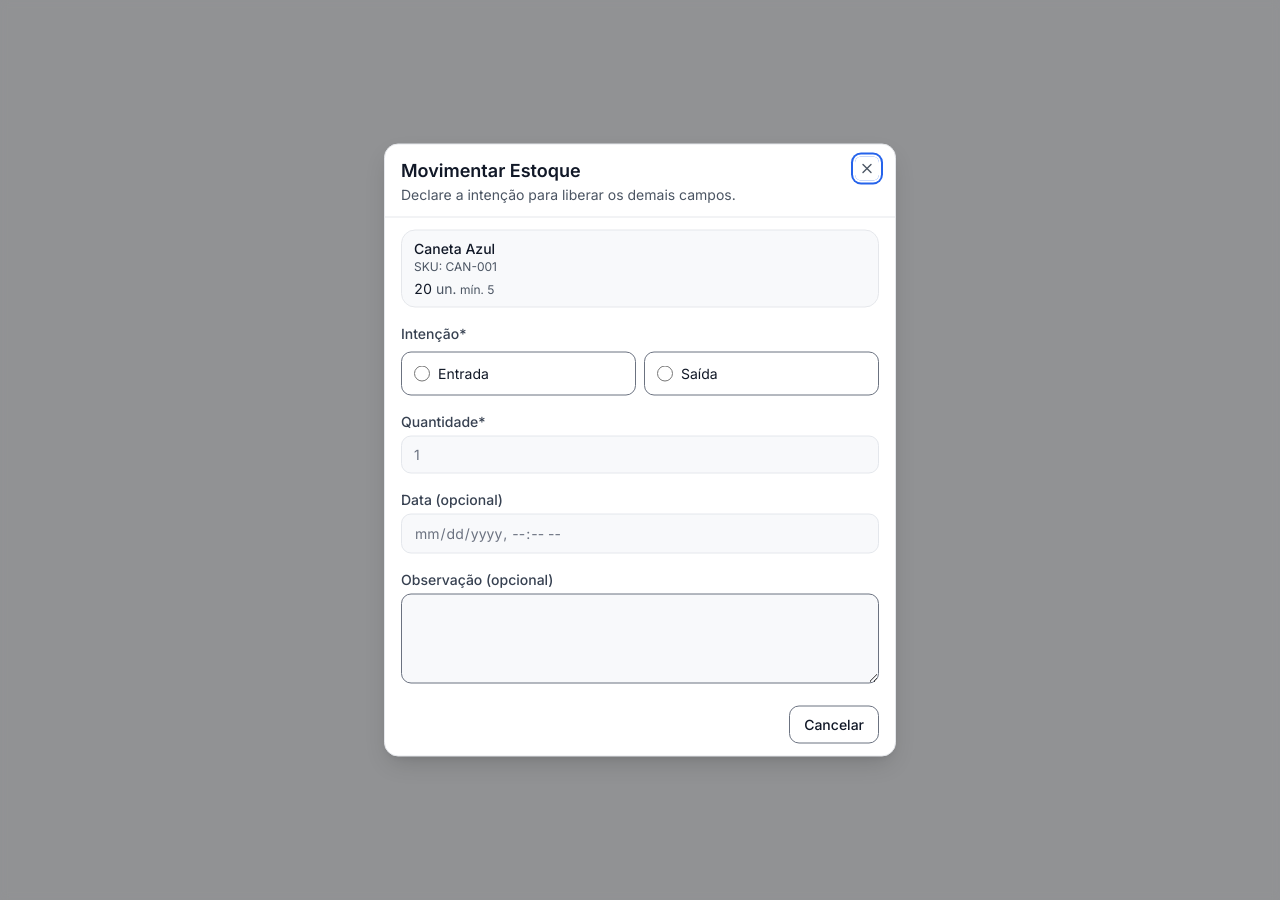
MovementFormModal — declaração de intenção (D2/P-4) › (c) escolhida a intenção, o preview mostra o saldo resultante — saída
Click the radio button labelled "Saída". click: (665,374)
box: [657,366,673,382]
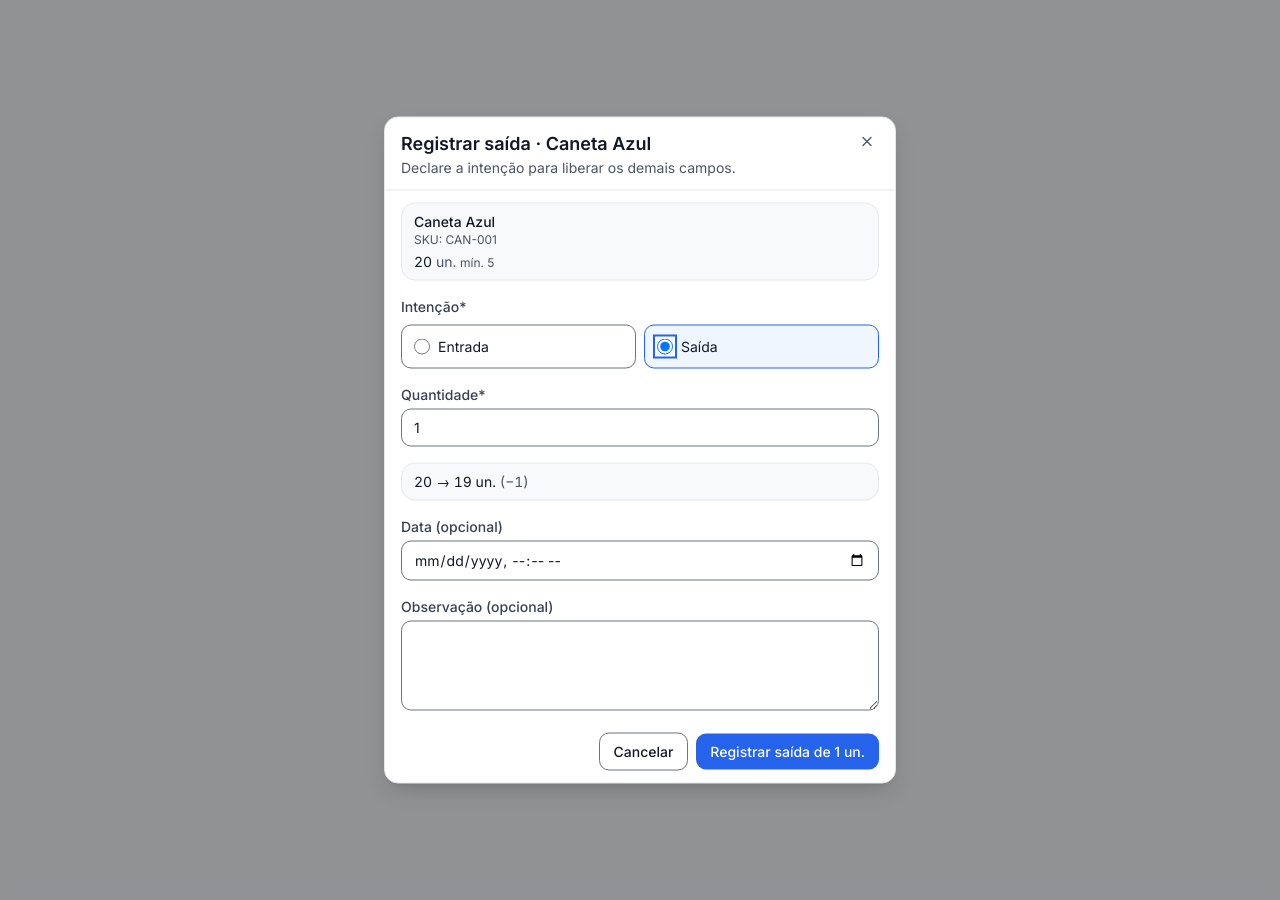
Clear the number field labelled "Quantidade*". click: (640,428)
box: [401,408,879,446]
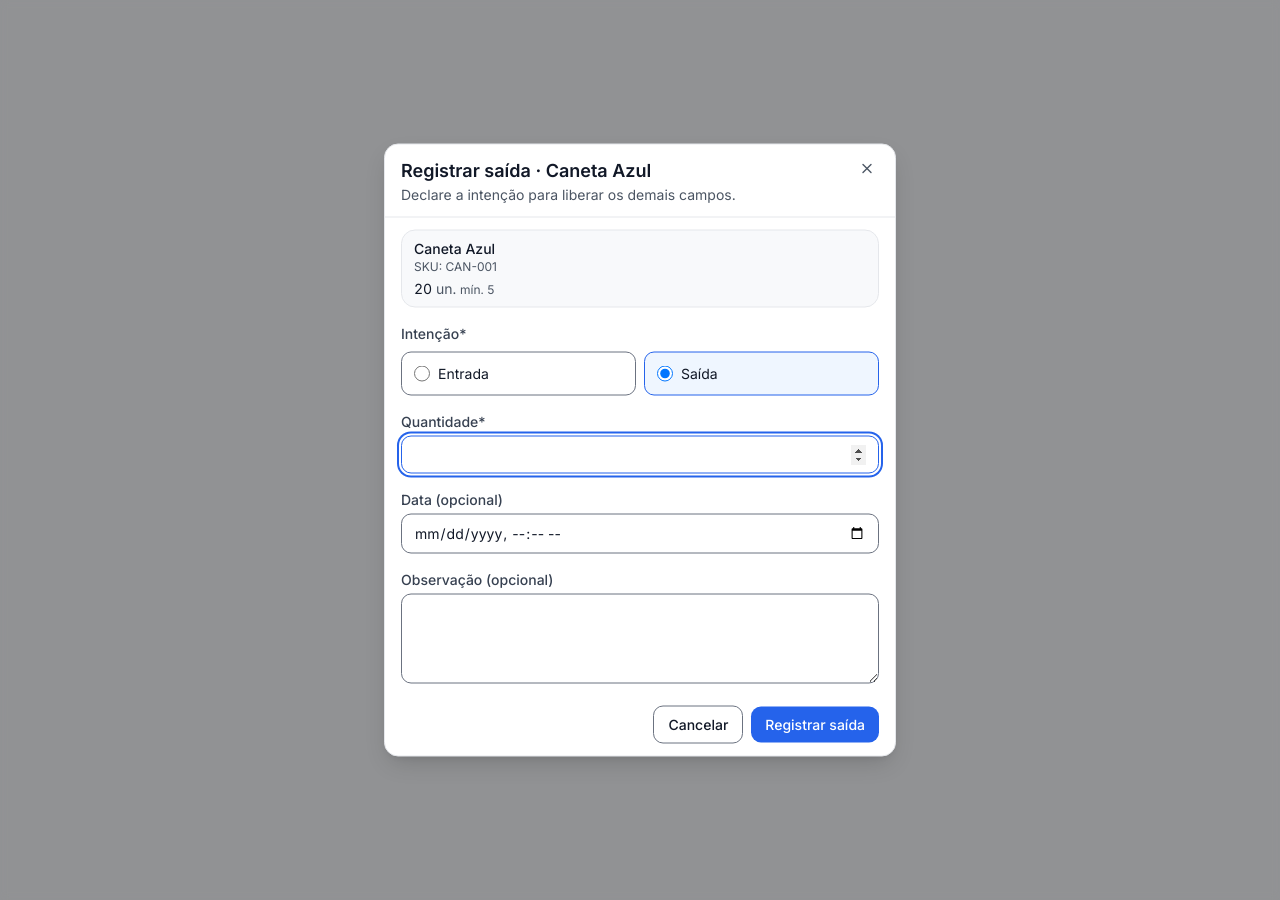
Type "8" into the number field labelled "Quantidade*". click: (640,454)
box: [401,436,879,474]
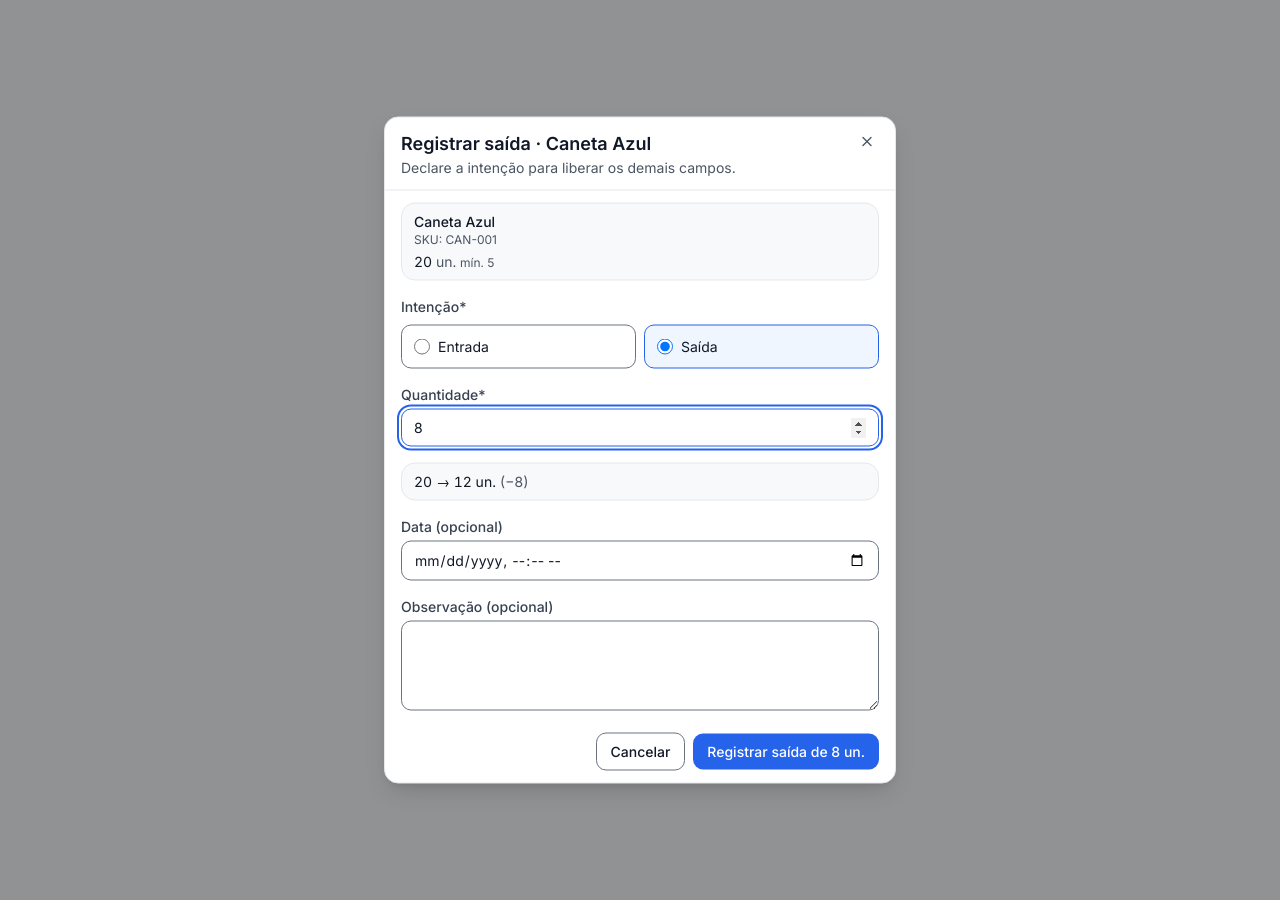
Check: the element with test id "movement-preview" reads "20 → 12 un. (−8)", box [414,472,472,490]
Check: the element with test id "movement-preview" shows "−8", box [505,472,523,490]
